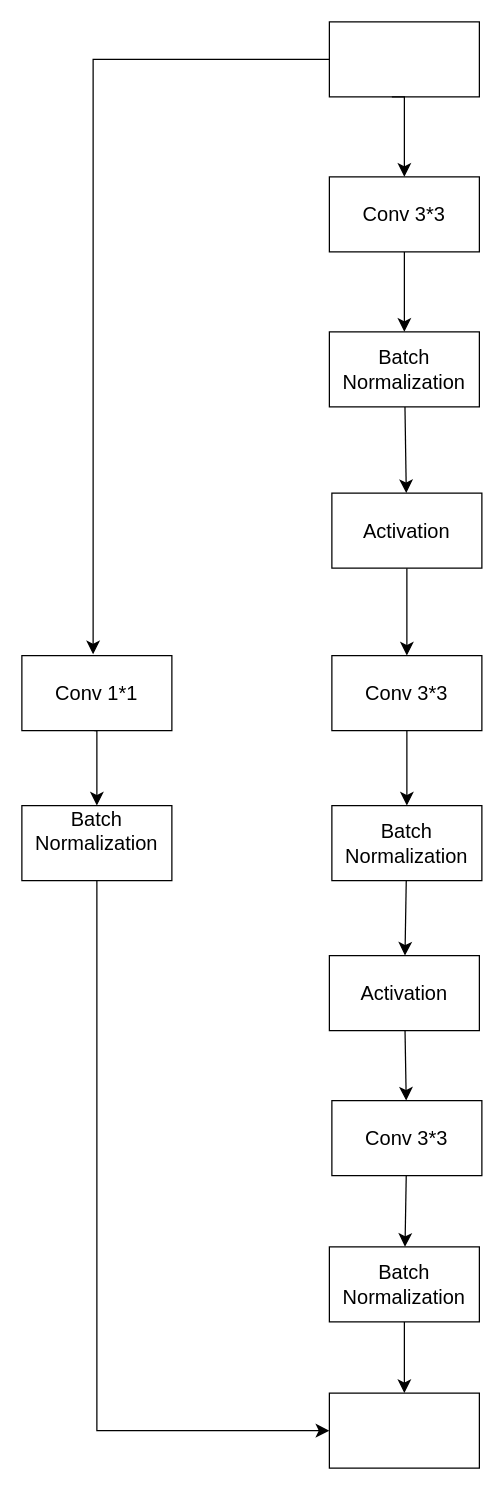
Image size: 504x1490. Some labels were removed from this diagram. The shapes that lost their labels are listed below. From the top down, each one's box as (x1, y1, x2, y2) in pixels, then its label:
(328, 21, 479, 97): Base
(328, 1392, 479, 1468): Add
